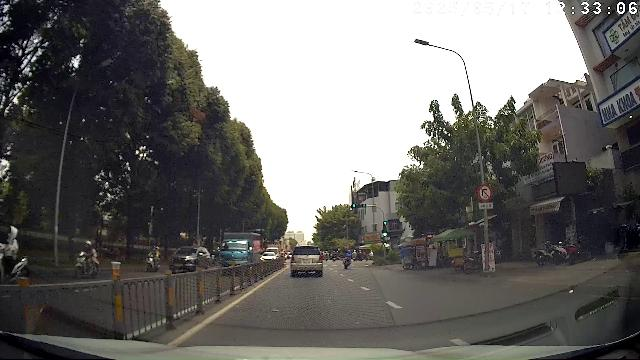103b-cam-oto-re-phai: (477, 184, 493, 202)
